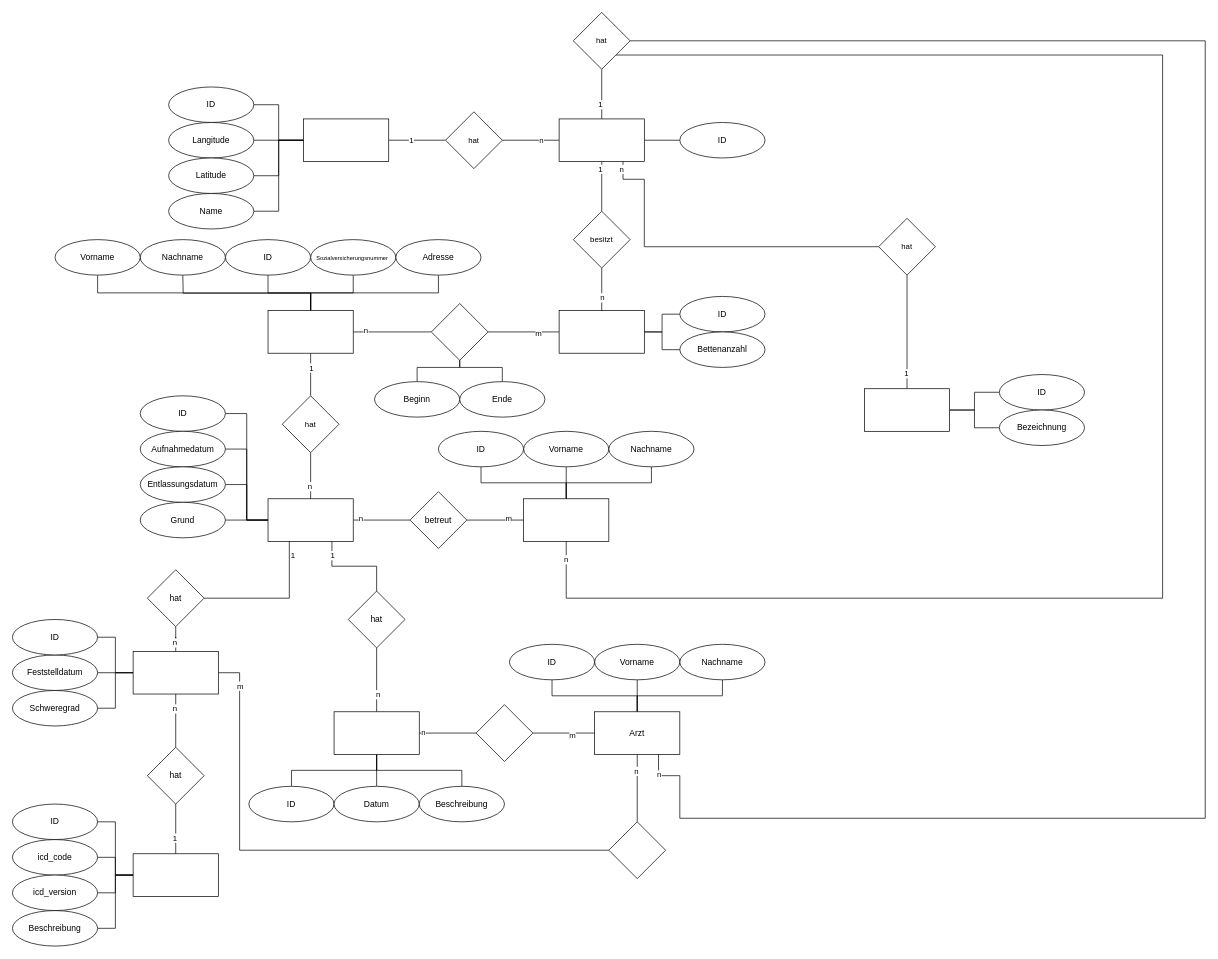
This 1218x959 diagram has some shape labels left out. The shapes that lost their labels are listed below. From the top down, each one's centre as x and y in pixels, then its label:
At point 346,140: "Krankenhaus".
At point 601,140: "Station".
At point 310,331: "Patient".
At point 459,331: "belegt".
At point 601,331: "Zimmer".
At point 907,409: "Fachrichtung".
At point 310,519: "Aufnahme".
At point 566,519: "Betreuer".
At point 175,672: "Persönliche Diagnose".
At point 376,732: "Behandlung".
At point 504,732: "führt durch".
At point 637,850: "macht".
At point 175,874: "Diagnose".
